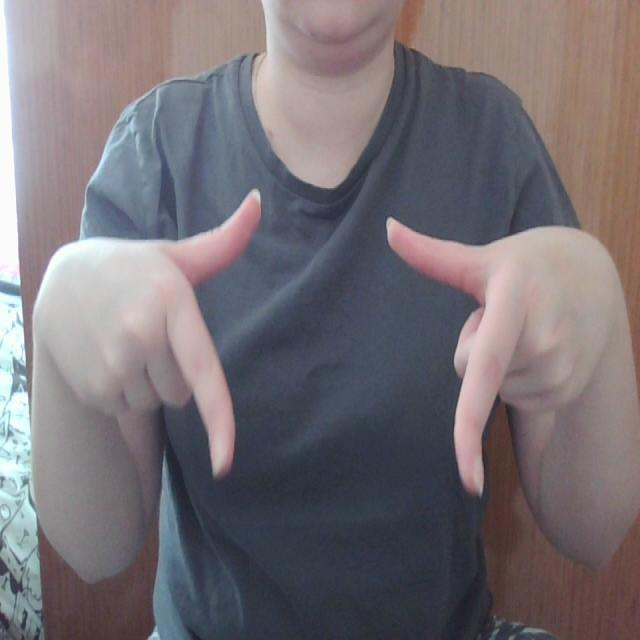Nerede: (160, 182, 530, 507)
